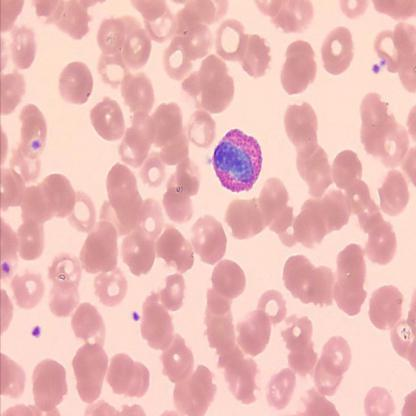Eosinophil: (212, 125, 266, 192)
